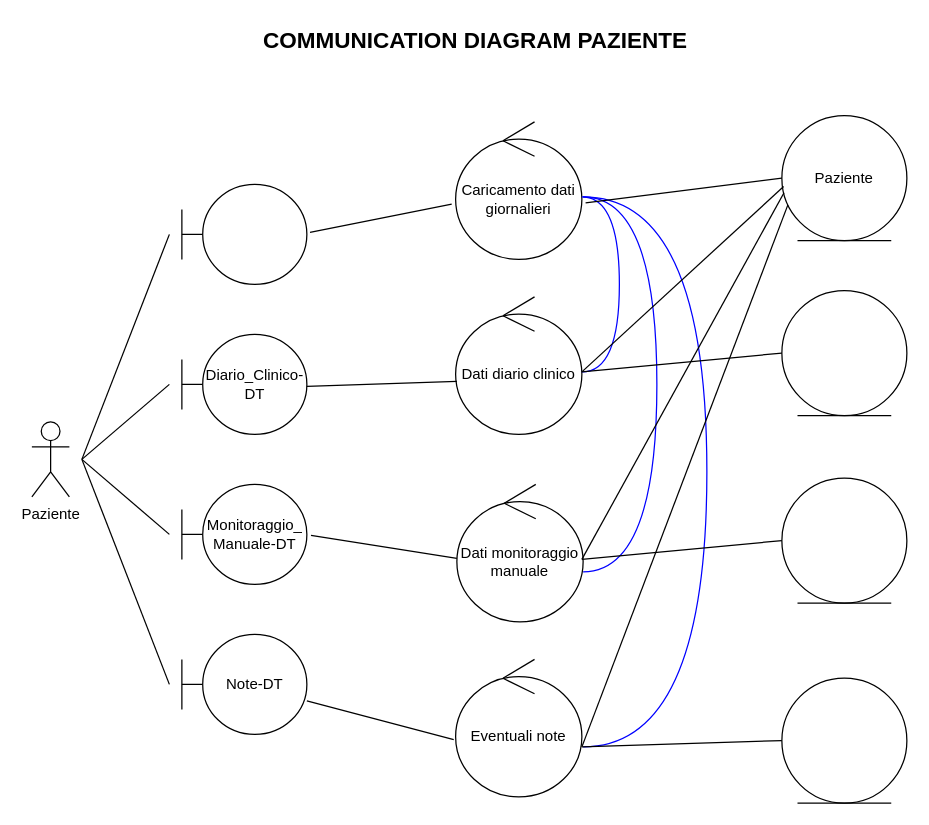
Image size: 929x825. Some labels were removed from this diagram. Here are the shapes that lost their labels. From the top down, the centre of each, then its label:
At pixel 244 233: "Home-DT".
At pixel 844 352: "Diario_Entry".
At pixel 844 540: "Parametro_Manuale".
At pixel 844 740: "Note_Entry".
